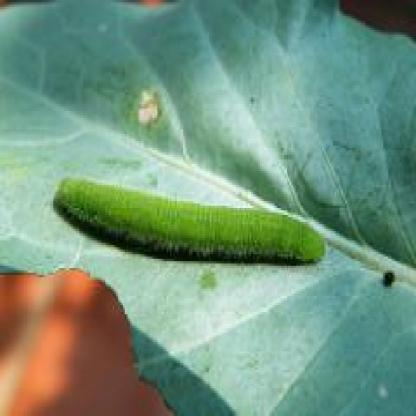armyworm: (55, 174, 337, 270)
